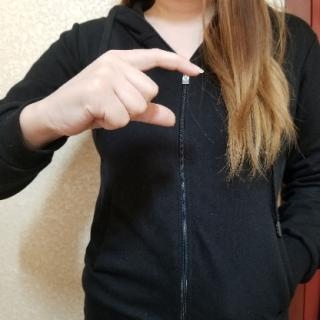DELL: (39, 45, 208, 139)
